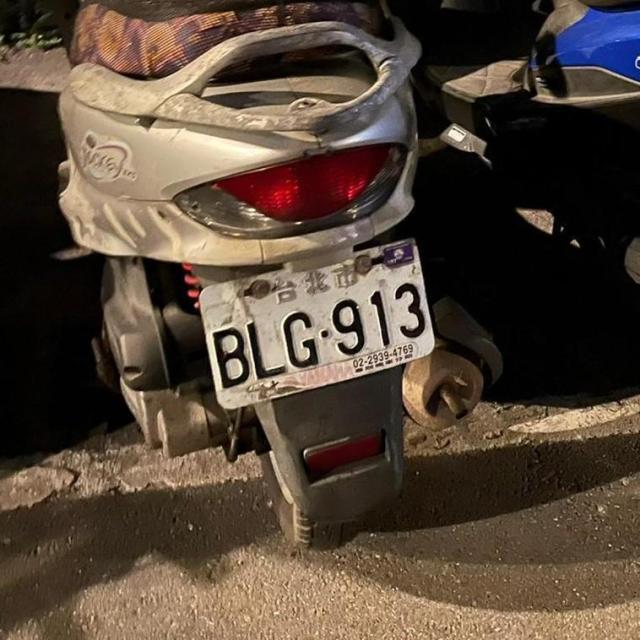W: (190, 228, 447, 415)
